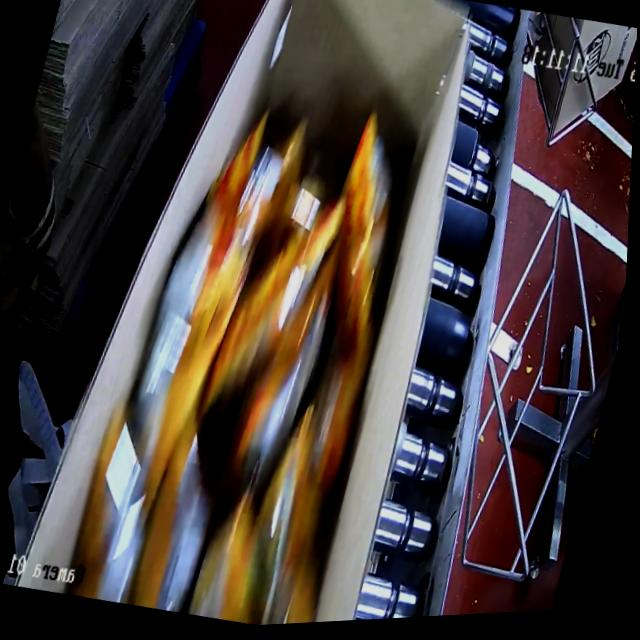FRENCH_CHEESE: (37, 69, 437, 637)
